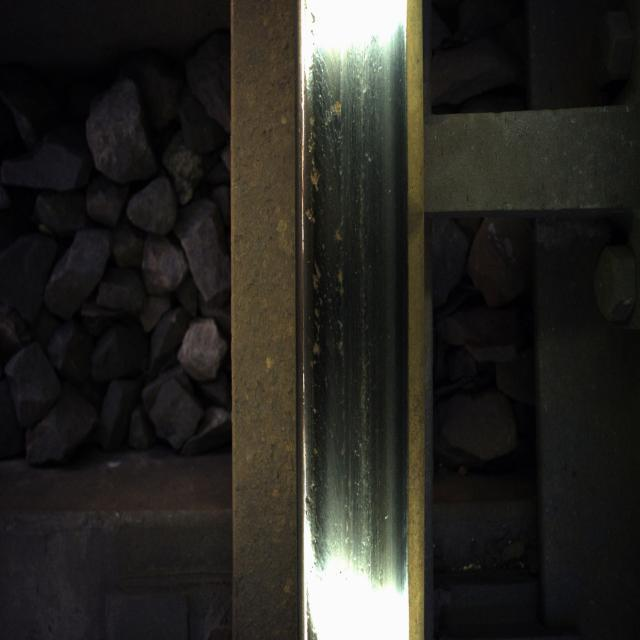crack: (306, 5, 385, 533)
